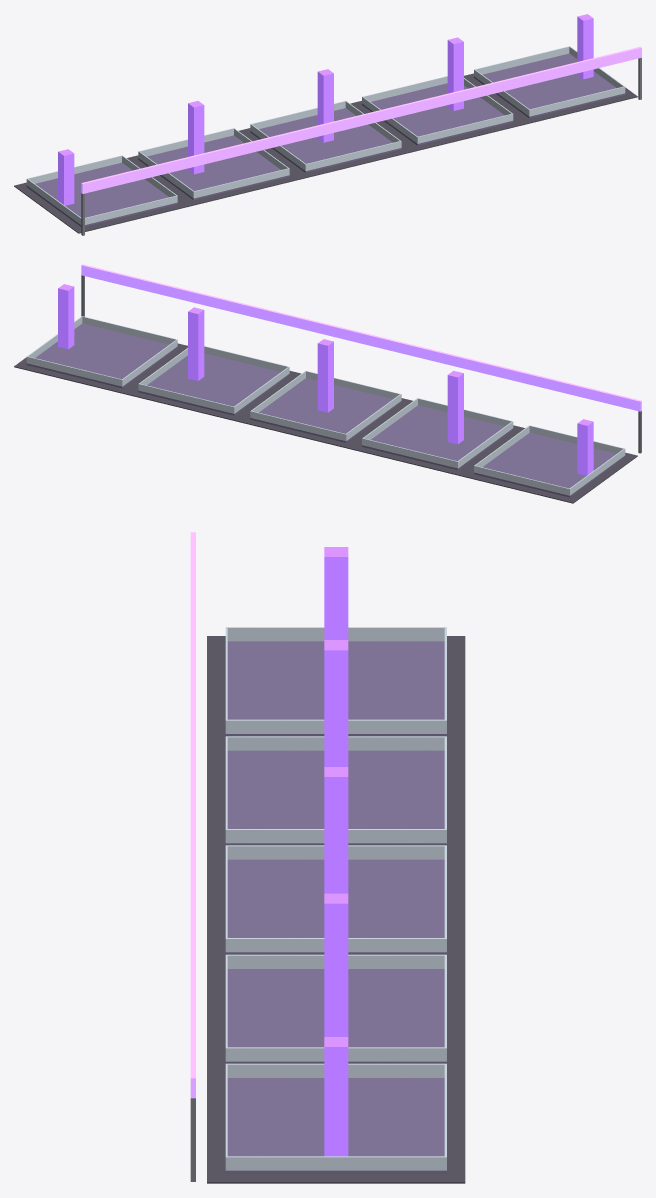
Rendered from pack-civic-leadership.glb.
The picture shows the model from 3 angles, top to bottom: view 1: azimuth 30°, elevation 25°; view 2: azimuth 150°, elevation 25°; view 3: azimuth 270°, elevation 25°; orthographic projection. The views are drawn at different scales.
Parts seen in each view (by area): view 1: Civic & Leadership; view 2: Civic & Leadership; view 3: Civic & Leadership.
Part boxes in pixels (x1=…): Civic & Leadership: x1=14, y1=14, x2=641, y2=235; Civic & Leadership: x1=14, y1=264, x2=641, y2=503; Civic & Leadership: x1=190, y1=532, x2=465, y2=1183.
Size of the model in its own units: 70 by 8.3 by 14.9.
